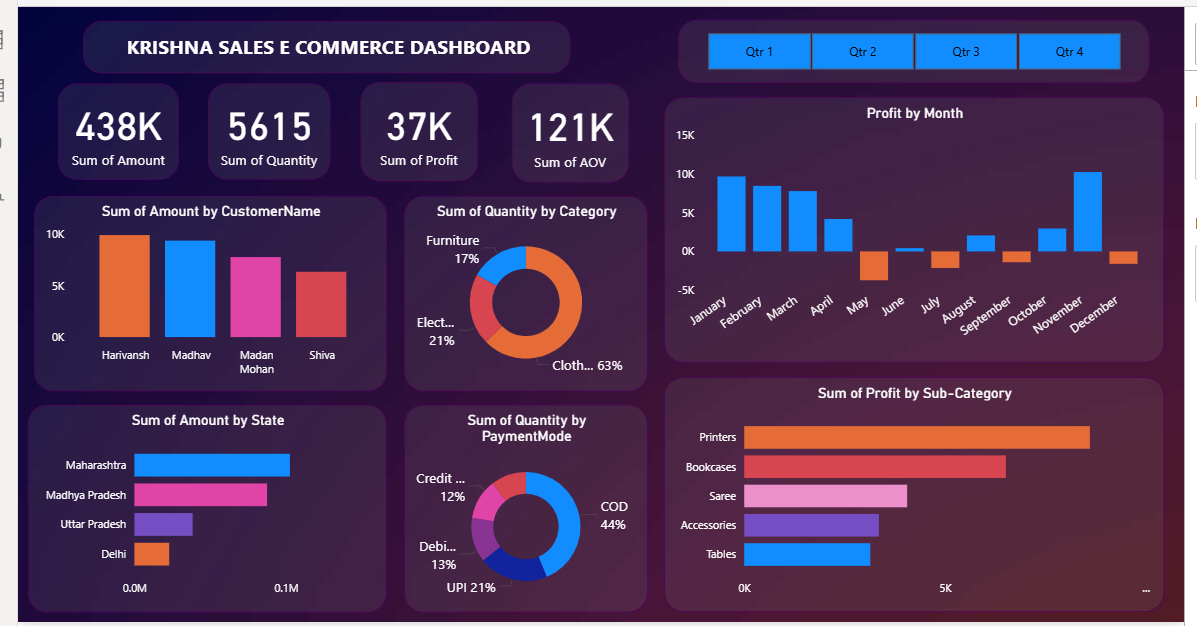

What the dashboard file says about the page in this screenshot:
{"tool":"powerbi","page":{"name":"Page 1","canvas":[1280,720],"ordinal":0},"visuals":[{"type":"textbox","box":[71.4,60.4,535.2,57.6],"z":0},{"type":"columnChart","title":"Profit by Month","fields":{"Category":["Orders.Order Date.Variation.Date Hierarchy.Month"],"Y":["Details.Profit"]},"box":[709.4,144.1,548.9,290.9],"z":1000},{"type":"barChart","fields":{"Category":["Details.Sub-Category"],"Y":["Details.Profit"]},"box":[709.4,451.5,548.9,258],"z":2000},{"type":"donutChart","fields":{"Category":["Details.Category"],"Y":["Details.Quantity"]},"box":[424,252.5,267.6,214.1],"z":3000},{"type":"donutChart","fields":{"Y":["Details.Quantity"],"Category":["Details.PaymentMode"]},"box":[424,481.6,267.6,227.8],"z":4000},{"type":"card","fields":{"Values":["Details.Amount"]},"box":[43.9,129,133.1,105.7],"z":5000},{"type":"card","fields":{"Values":["Details.Quantity"]},"box":[208.6,129,134.5,105.7],"z":6000},{"type":"card","fields":{"Values":["Details.Profit"]},"box":[376,127.6,129,108.4],"z":7000},{"type":"card","fields":{"Values":["Details.AOV"]},"box":[542,129,129,108.4],"z":8000},{"type":"barChart","fields":{"Category":["Orders.State"],"Y":["Details.Amount"]},"box":[11,481.6,393.8,227.8],"z":9000},{"type":"columnChart","fields":{"Category":["Orders.CustomerName"],"Y":["Details.Amount"]},"box":[17.8,252.5,387,214.1],"z":10000},{"type":"slicer","fields":{"Values":["Orders.Order Date.Variation.Date Hierarchy.Quarter"]},"box":[724.5,59,517.3,70],"z":10001}]}

Visuals, with their boxes on the page's 1280x720 design canvas (x1, y1, x2, y2). These are canvas units, not pixel positions in the 1197x626 screenshot, which may show the page scaled, cropped or inside an application window:
textbox: <bbox>71, 60, 607, 118</bbox>
"Profit by Month" columnChart: <bbox>709, 144, 1258, 435</bbox>
barChart - Details.Sub-Category x Details.Profit: <bbox>709, 452, 1258, 710</bbox>
donutChart - Details.Category x Details.Quantity: <bbox>424, 252, 692, 467</bbox>
donutChart - Details.Quantity x Details.PaymentMode: <bbox>424, 482, 692, 709</bbox>
card - Details.Amount: <bbox>44, 129, 177, 235</bbox>
card - Details.Quantity: <bbox>209, 129, 343, 235</bbox>
card - Details.Profit: <bbox>376, 128, 505, 236</bbox>
card - Details.AOV: <bbox>542, 129, 671, 237</bbox>
barChart - Orders.State x Details.Amount: <bbox>11, 482, 405, 709</bbox>
columnChart - Orders.CustomerName x Details.Amount: <bbox>18, 252, 405, 467</bbox>
slicer - Orders.Order Date.Variation.Date Hierarchy.Quarter: <bbox>724, 59, 1242, 129</bbox>
